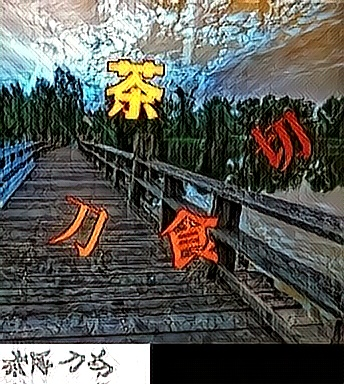B2E8: (104, 55, 168, 121)
B5B6: (46, 193, 110, 259)
C7D0: (249, 109, 313, 175)
CAB3: (159, 205, 223, 271)
